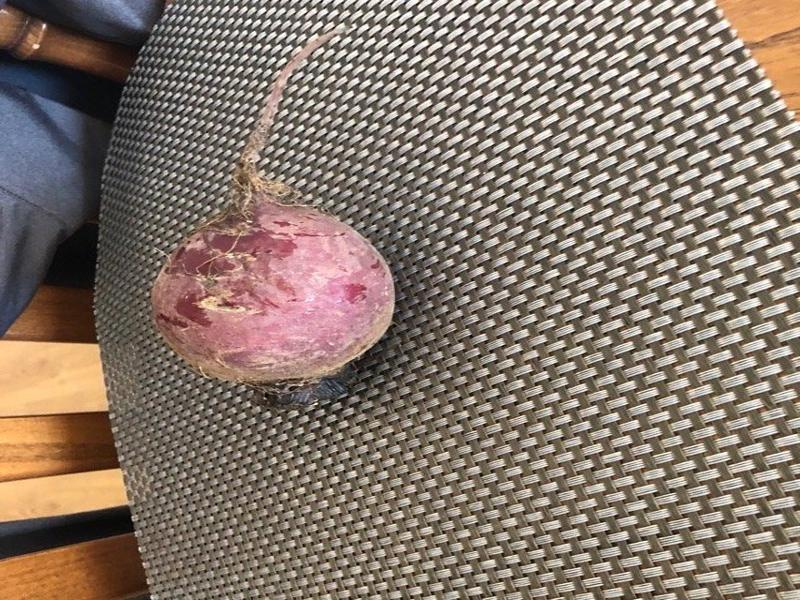Beet: (148, 32, 393, 413)
